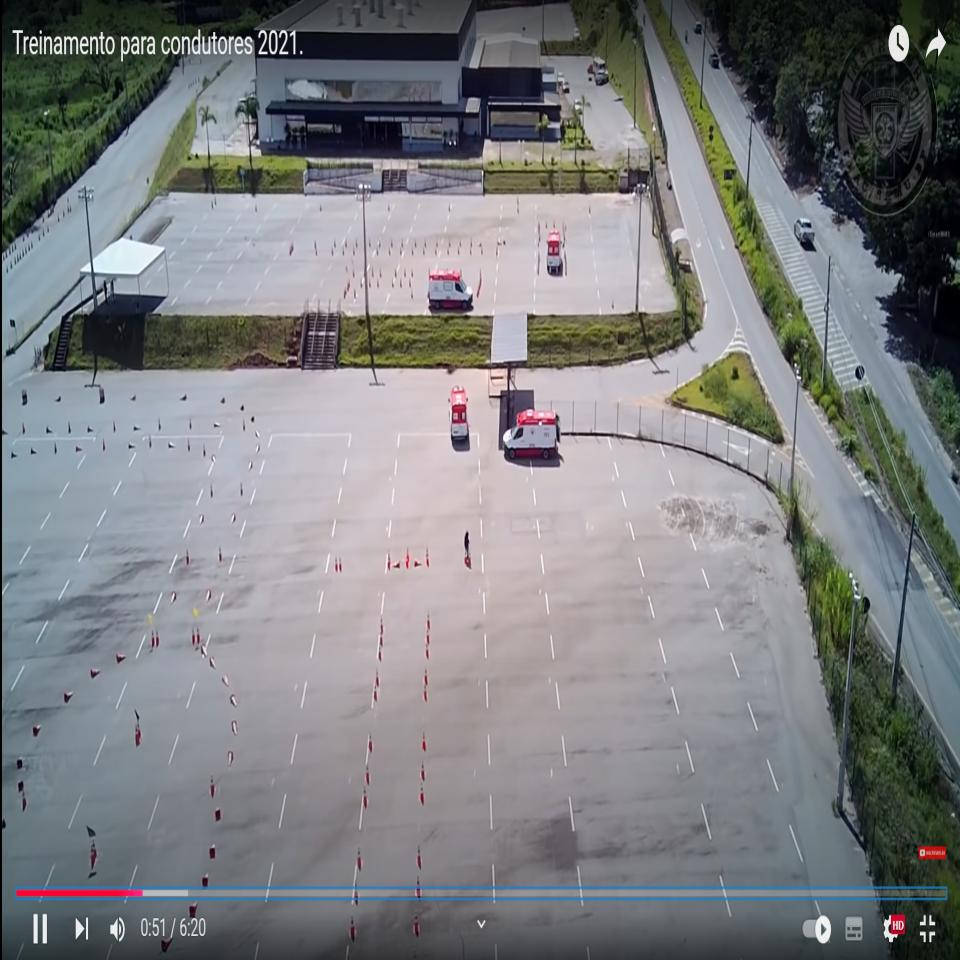bombeiro: (502, 408, 563, 462), (428, 270, 476, 310), (448, 386, 470, 442), (546, 228, 564, 275)
